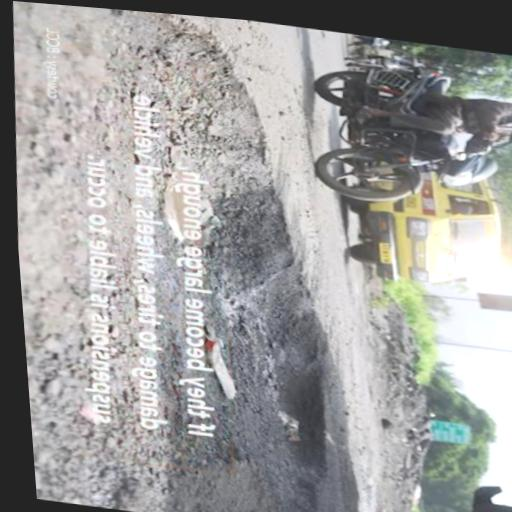pothole: (53, 14, 323, 507)
